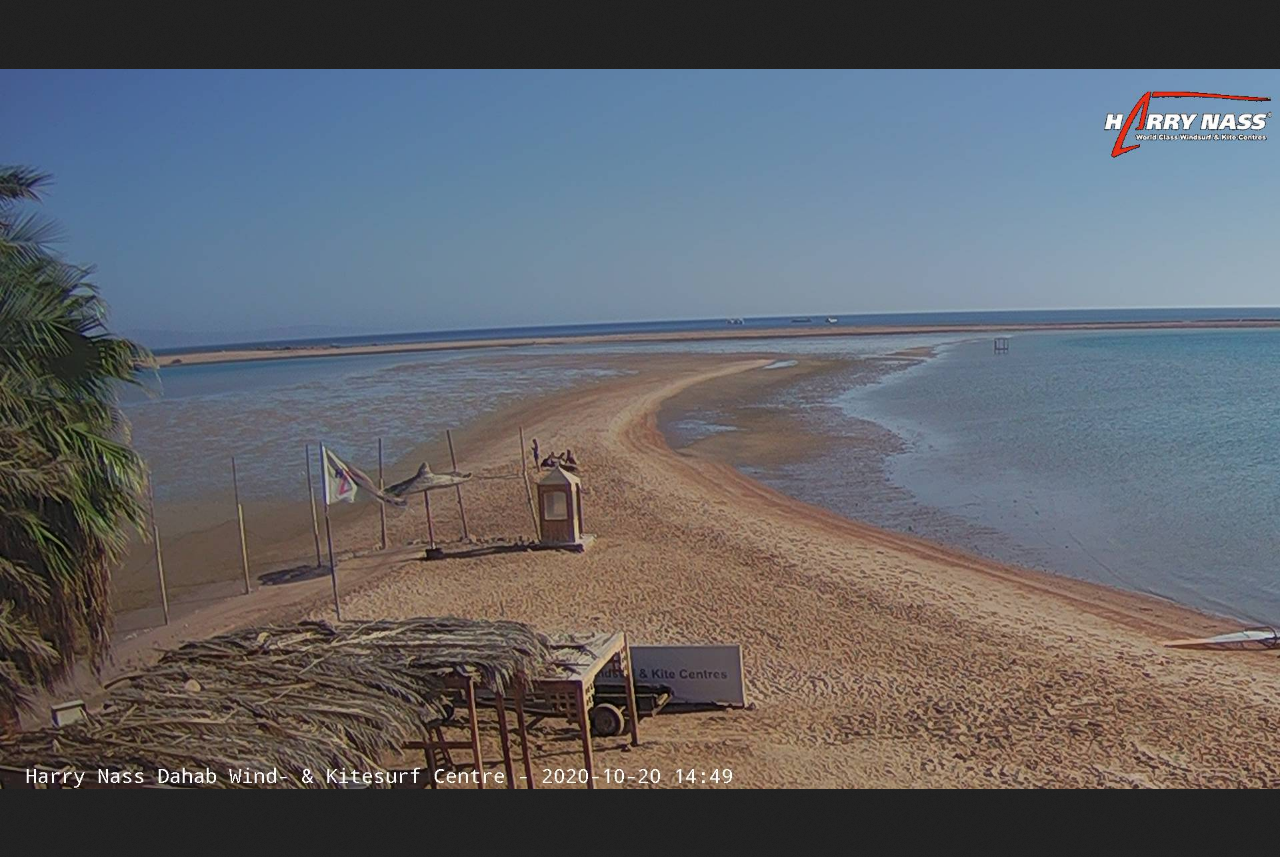maybe: (315, 435, 413, 511)
